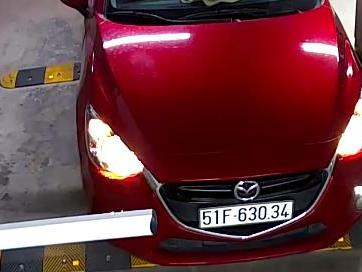number: (200, 202, 292, 227)
